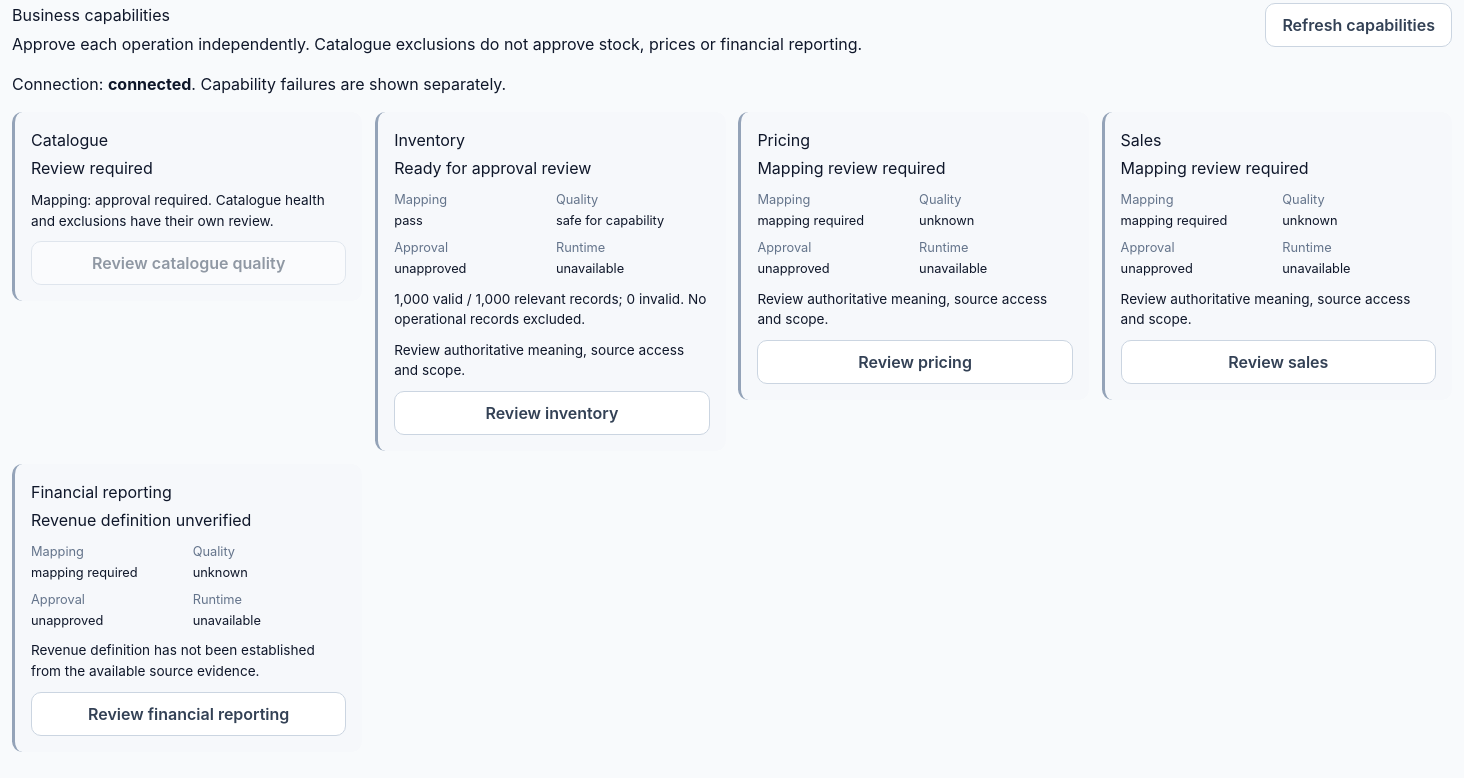
Test: shows actual source names and submitted meaning without claiming activation
Click the button "Review inventory": (552, 413) top-left (394, 391), bottom-right (710, 435)
(page scrolled)
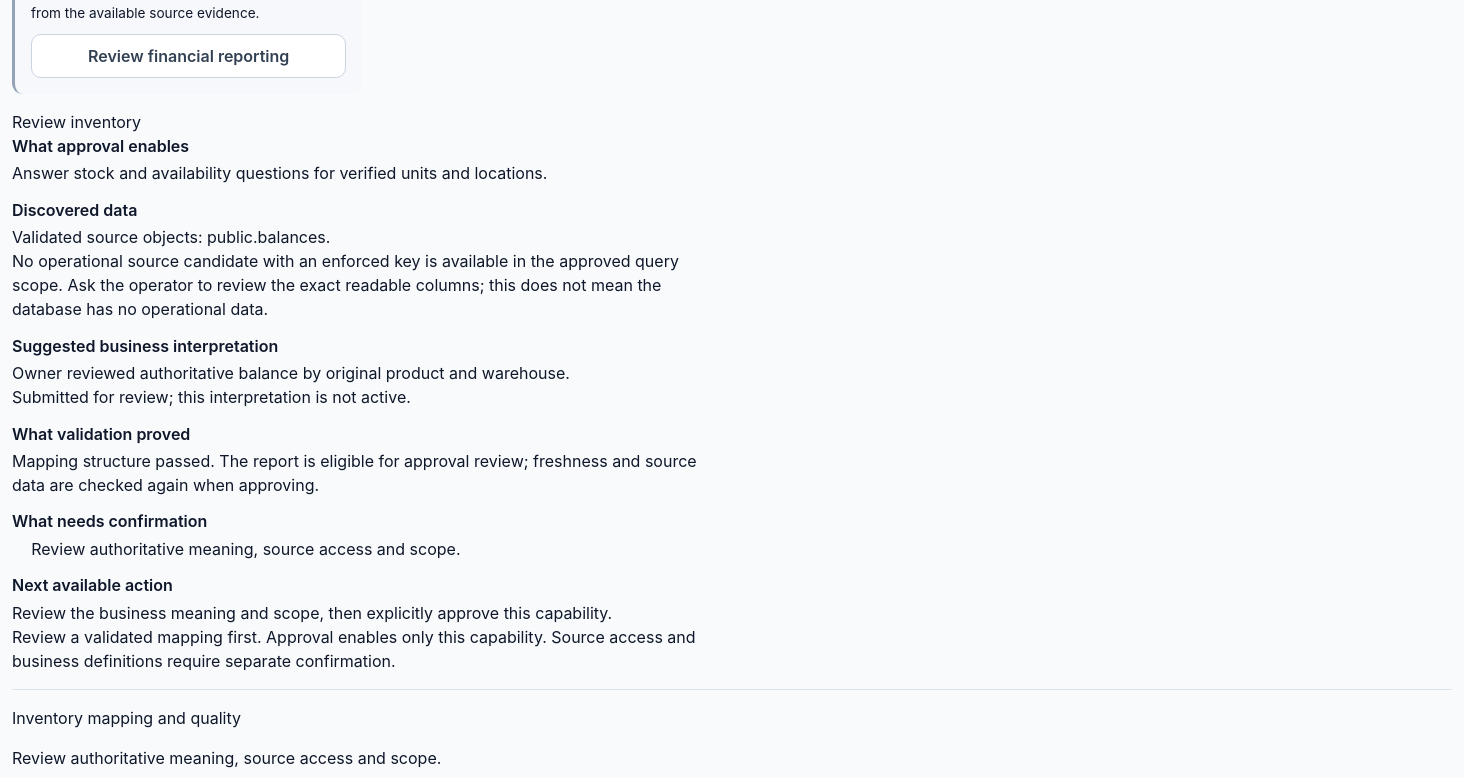
Expected: the element named "Inventory next steps" shows "public.balances", top-left (207, 227), bottom-right (326, 247)
Expected: the element named "Inventory next steps" shows "Owner reviewed authoritative balance by original product and warehouse.", top-left (12, 363), bottom-right (570, 383)
Expected: the element named "Inventory next steps" shows "this interpretation is not active", top-left (12, 387), bottom-right (411, 407)
